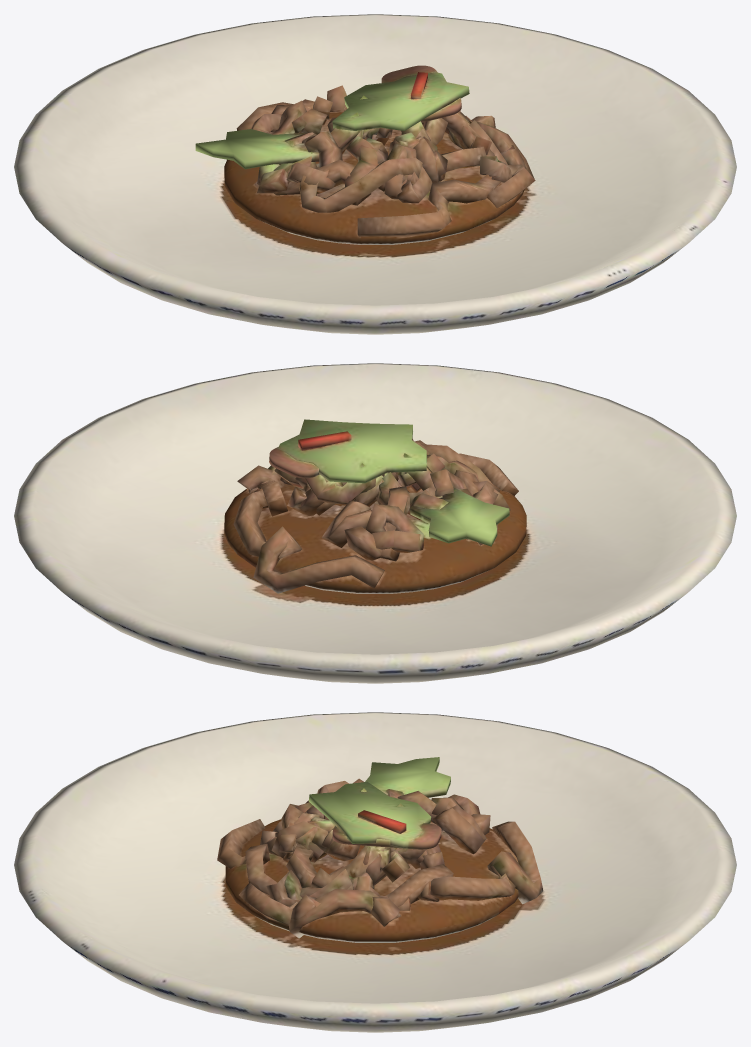
Rendered from yakisoba_b2.glb.
3 views of the same model, one above another, from view 1: azimuth 30°, elevation 25°; view 2: azimuth 150°, elevation 25°; view 3: azimuth 270°, elevation 25° (orthographic).
Parts seen in each view (by area): view 1: prop_yakisoba_b2_felt; view 2: prop_yakisoba_b2_felt; view 3: prop_yakisoba_b2_felt.
Boxes of the visible parts, x1,y1,x2,y2 form: prop_yakisoba_b2_felt: (14, 14, 736, 334); prop_yakisoba_b2_felt: (14, 363, 736, 683); prop_yakisoba_b2_felt: (14, 712, 736, 1032).
Size of the model in its own units: 0.306 by 0.0594 by 0.306.
Materials: 1 (1 with a texture image).
